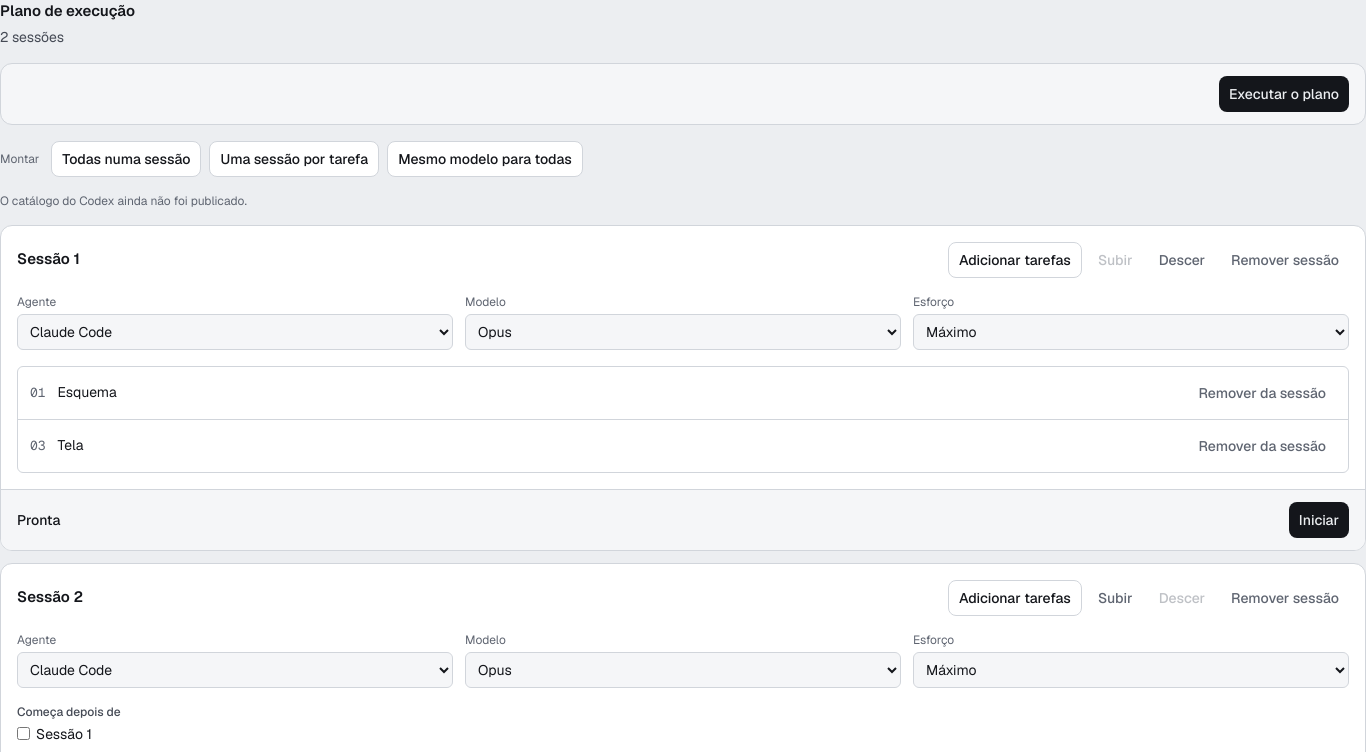
Test: ExecutionPlanEditor choosing the tasks of a session › V-02c keeps the session that is left empty, with the empty text
Click the button "Adicionar tarefas" in the row of "Sessão 2": click(1015, 598) [948, 580, 1082, 616]
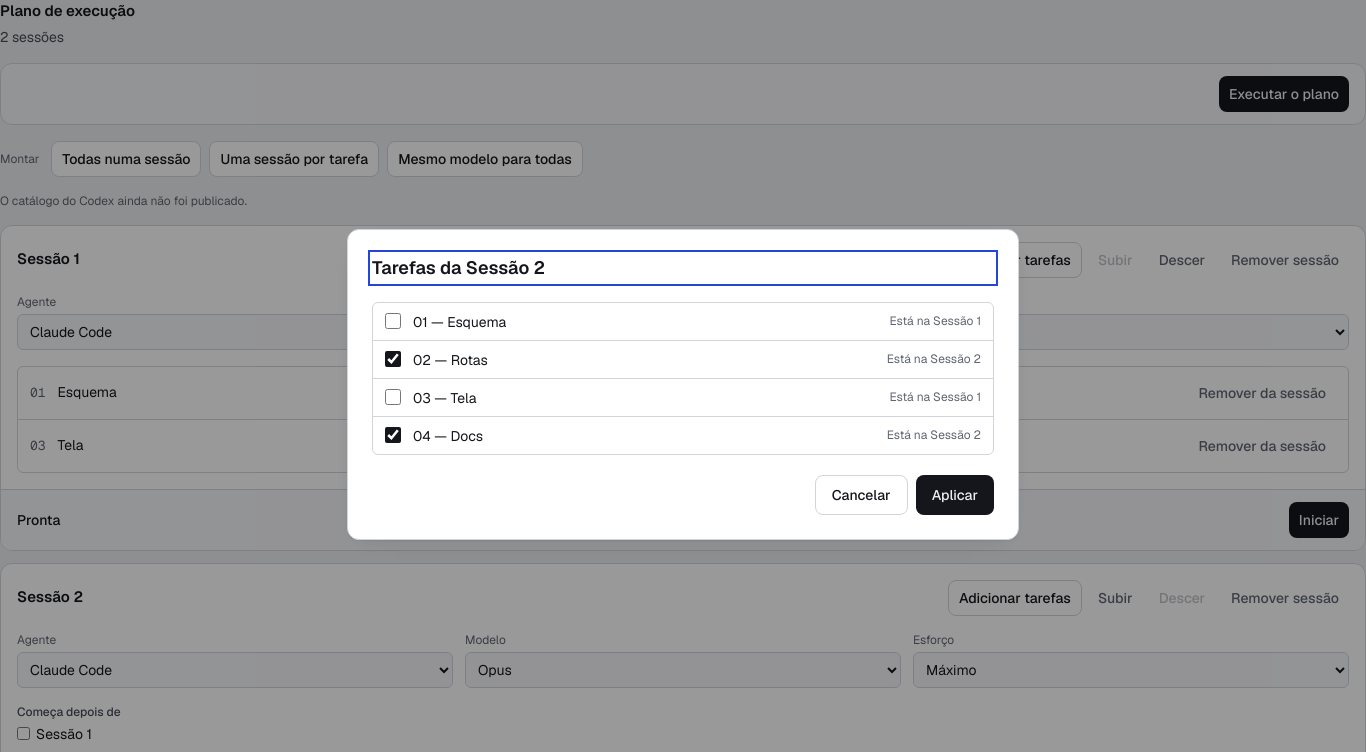
Click the checkbox labelled "02 — Rotas": click(393, 358) [385, 350, 401, 366]
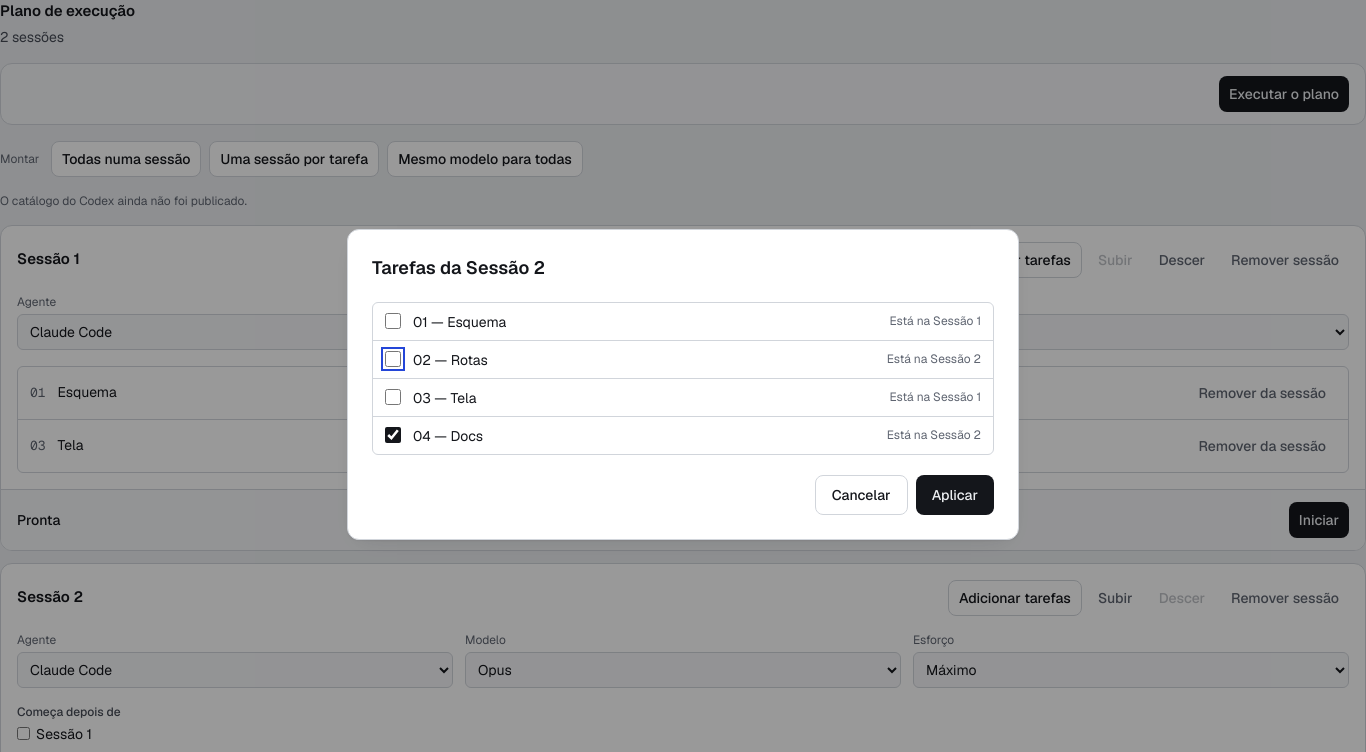
Click the checkbox labelled "04 — Docs": click(393, 434) [385, 426, 401, 442]
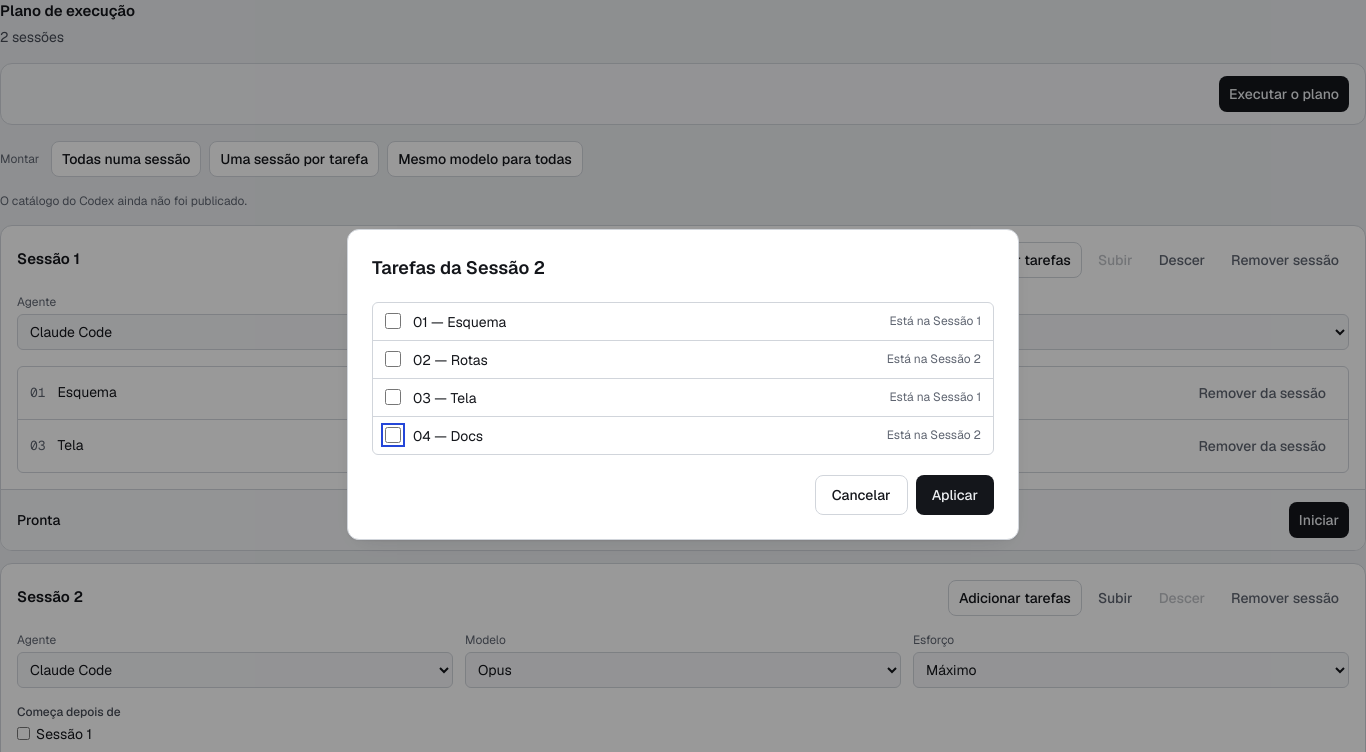
Click the button "Aplicar": click(955, 494) [916, 474, 994, 514]
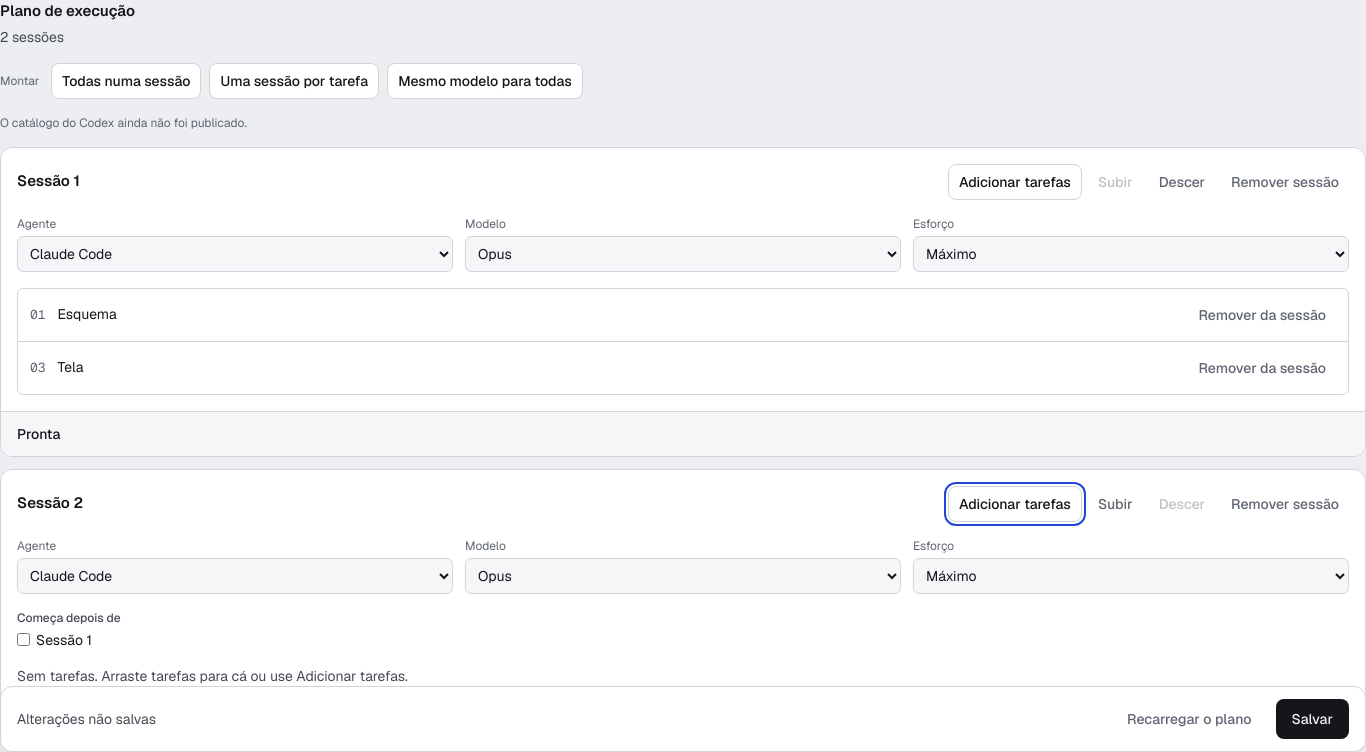
Expected: the text "2 sessões" is shown, [0, 28, 64, 46]
Expected: the headings read "Sessão 1", "Sessão 2", in this order, [17, 170, 80, 193]; [17, 492, 83, 515]
